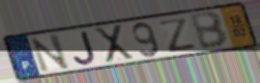9: (130, 21, 161, 60)
B: (188, 10, 231, 51)
J: (71, 29, 98, 67)
N: (28, 33, 72, 74)
X: (92, 23, 137, 65)
Z: (156, 16, 199, 54)
